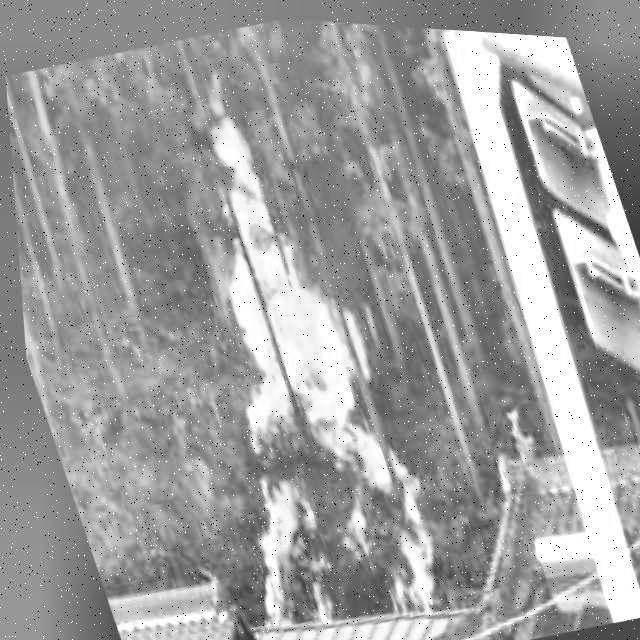Fire: (91, 47, 455, 640)
